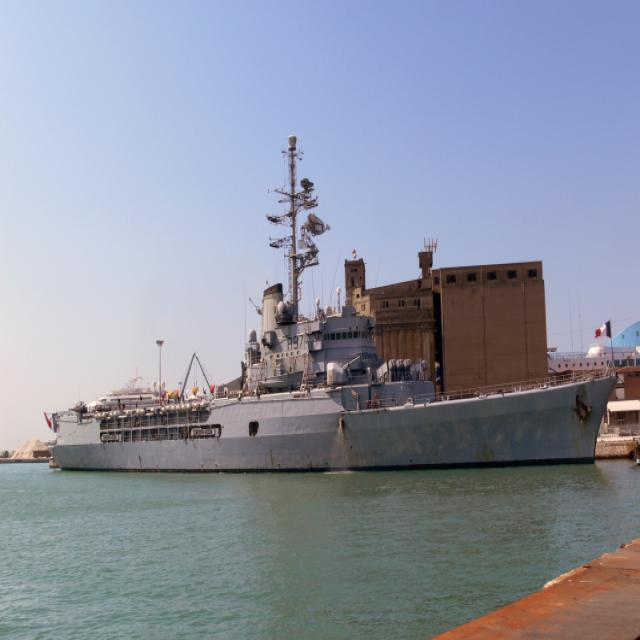Portanaves: (35, 125, 622, 482)
